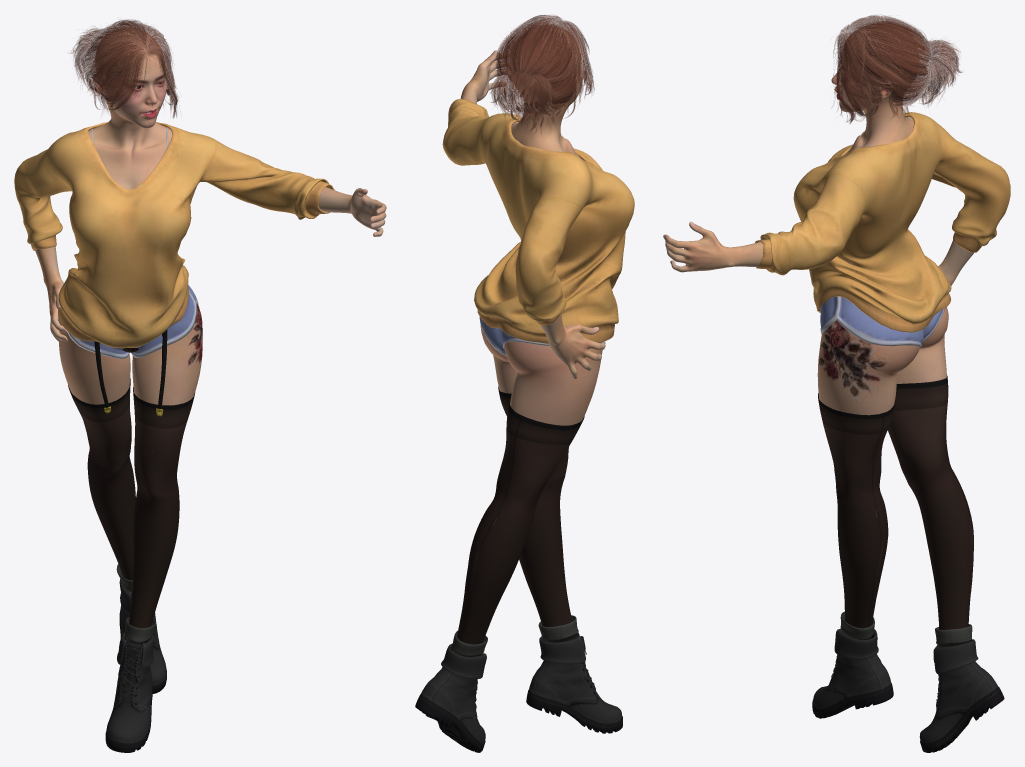
Rendered from character_asian_agent.glb.
3 renders of one model, left to right at view 1: azimuth 30°, elevation 25°; view 2: azimuth 150°, elevation 25°; view 3: azimuth 270°, elevation 25°, orthographic. The views are drawn at different scales.
Parts seen in each view (by area): view 1: shirt, body, L_sock, R_sock, hair1, boot, short, underwear; view 2: shirt, body, R_sock, boot, hair1, L_sock, short; view 3: shirt, body, R_sock, boot, L_sock, hair1, short.
Boxes of the visible parts, bbox=[...] form: shirt: bbox=[14, 122, 334, 348]; body: bbox=[35, 27, 386, 450]; L_sock: bbox=[126, 387, 195, 668]; R_sock: bbox=[68, 378, 135, 580]; hair1: bbox=[69, 19, 179, 118]; boot: bbox=[105, 564, 166, 752]; short: bbox=[68, 284, 198, 358]; underwear: bbox=[94, 329, 167, 416]; shirt: bbox=[442, 99, 634, 343]; body: bbox=[460, 25, 605, 521]; R_sock: bbox=[457, 401, 584, 644]; boot: bbox=[415, 615, 622, 752]; hair1: bbox=[490, 15, 594, 134]; L_sock: bbox=[498, 386, 572, 626]; short: bbox=[479, 317, 605, 356]; shirt: bbox=[755, 112, 1010, 332]; body: bbox=[663, 24, 973, 750]; R_sock: bbox=[887, 375, 973, 629]; boot: bbox=[812, 611, 1004, 752]; L_sock: bbox=[818, 393, 895, 628]; hair1: bbox=[832, 14, 962, 123]; short: bbox=[820, 296, 945, 349].
Bounding box in the file's own units: 0.5851 × 1.72 × 0.7608.
Materials: 9 (9 with a texture image).
